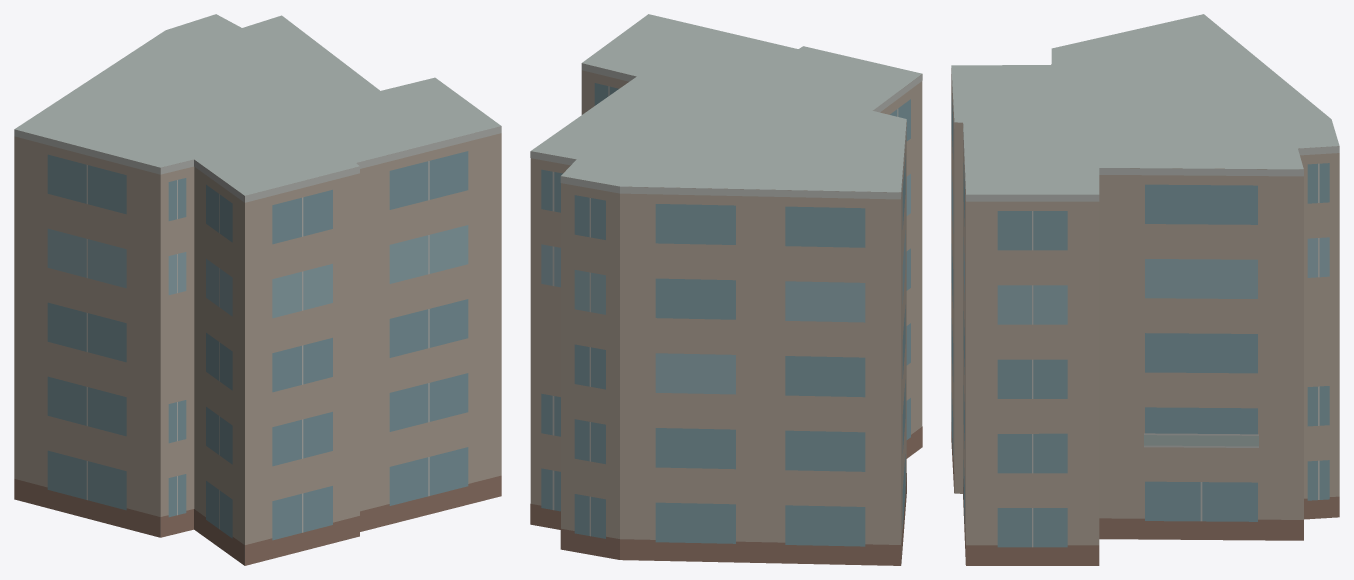
File: survey-upis-32666326.glb
3 views of the same model, side by side, from view 1: azimuth 30°, elevation 25°; view 2: azimuth 150°, elevation 25°; view 3: azimuth 270°, elevation 25° (orthographic).
Visible parts, largest first — view 1: survey-upis-32666326.tmp; view 2: survey-upis-32666326.tmp; view 3: survey-upis-32666326.tmp.
Part boxes in pixels (left/top/right/bottom): survey-upis-32666326.tmp: left=14, top=14, right=501, bottom=565; survey-upis-32666326.tmp: left=530, top=14, right=922, bottom=565; survey-upis-32666326.tmp: left=951, top=14, right=1339, bottom=565.
Size of the model in its own units: 13.47 by 12.9 by 12.24.
